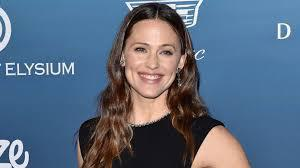face: (126, 19, 178, 98)
